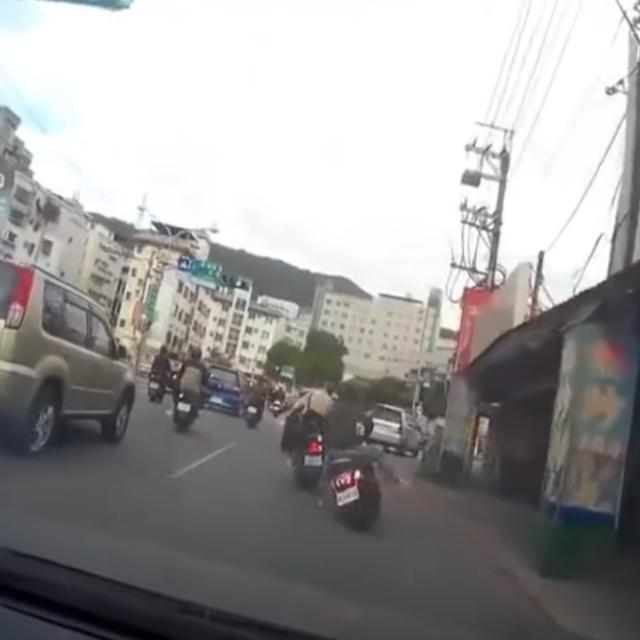accident: (281, 380, 385, 534)
non-accident: (144, 344, 268, 434)
